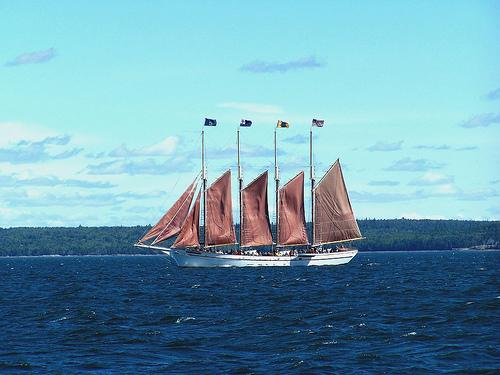Ship: (133, 117, 364, 265)
